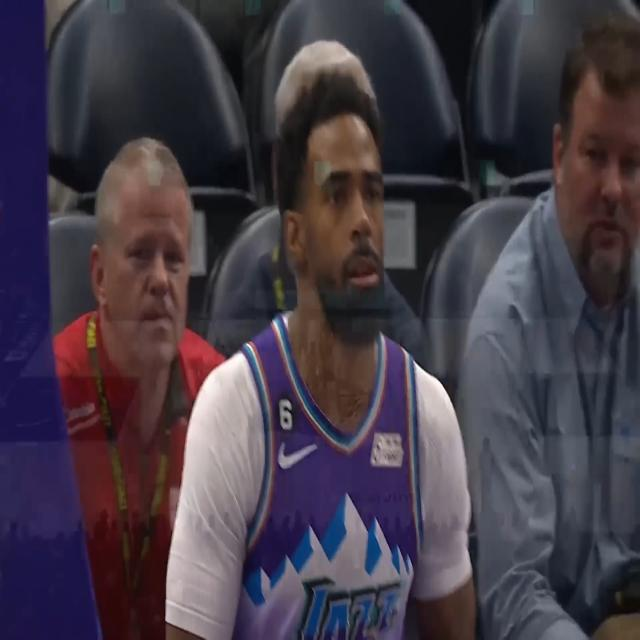Player: (164, 61, 474, 640)
